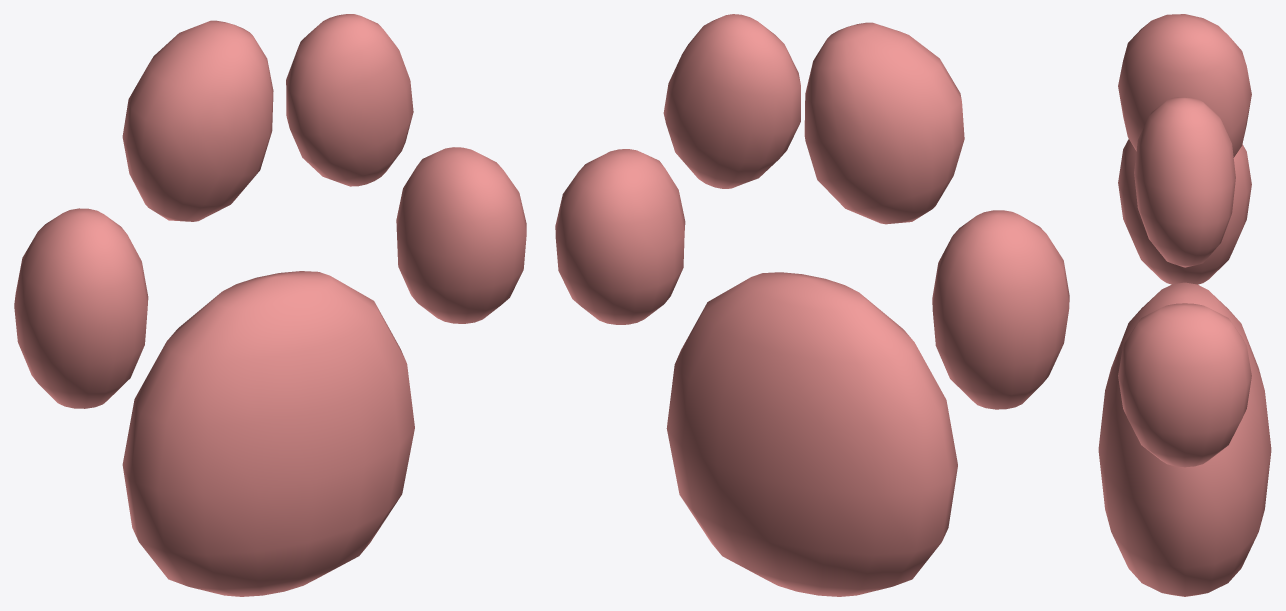
The model's file is Jelly.fbx.
The picture shows the model from 3 angles, left to right: view 1: azimuth 30°, elevation 25°; view 2: azimuth 150°, elevation 25°; view 3: azimuth 270°, elevation 25°; orthographic projection. The views are drawn at different scales.
Parts seen in each view (by area): view 1: Jelly; view 2: Jelly; view 3: Jelly.
Part boxes in pixels (x1,y1,x2,y2): Jelly: [14, 14, 526, 596]; Jelly: [555, 14, 1069, 596]; Jelly: [1098, 14, 1271, 596].
Bounding box in the file's own units: 2.94 × 3.23 × 0.9491.
